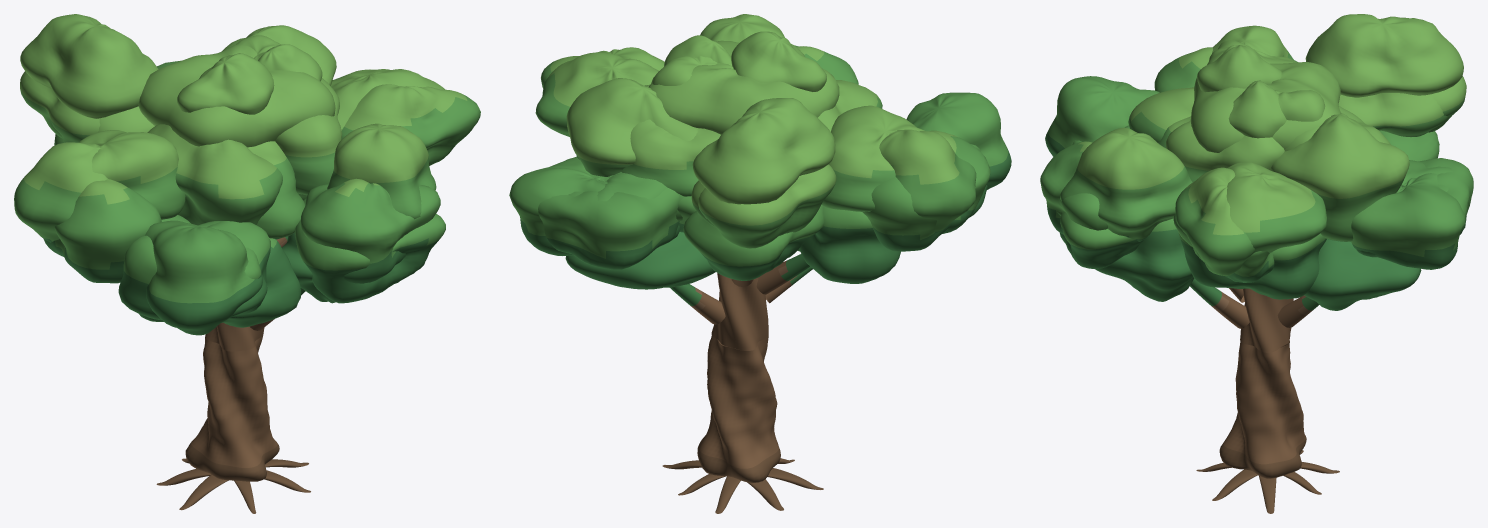
The model's file is yggdrasil.glb.
The picture shows the model from 3 angles, left to right: view 1: azimuth 30°, elevation 25°; view 2: azimuth 150°, elevation 25°; view 3: azimuth 270°, elevation 25°; orthographic projection. The views are drawn at different scales.
Visible parts, largest first — view 1: Yggdrasil_Top, Yggdrasil_Base; view 2: Yggdrasil_Top, Yggdrasil_Base; view 3: Yggdrasil_Top, Yggdrasil_Base.
Part boxes in pixels (x1=…): Yggdrasil_Top: x1=14, y1=14, x2=480, y2=351; Yggdrasil_Base: x1=156, y1=335, x2=310, y2=513; Yggdrasil_Top: x1=509, y1=14, x2=1011, y2=350; Yggdrasil_Base: x1=662, y1=335, x2=823, y2=513; Yggdrasil_Top: x1=1040, y1=14, x2=1473, y2=352; Yggdrasil_Base: x1=1196, y1=334, x2=1339, y2=513.
Size of the model in its own units: 39.3 by 37.52 by 34.65.
